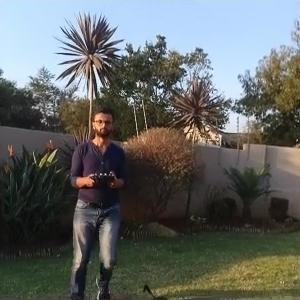follow: (67, 106, 132, 298)
